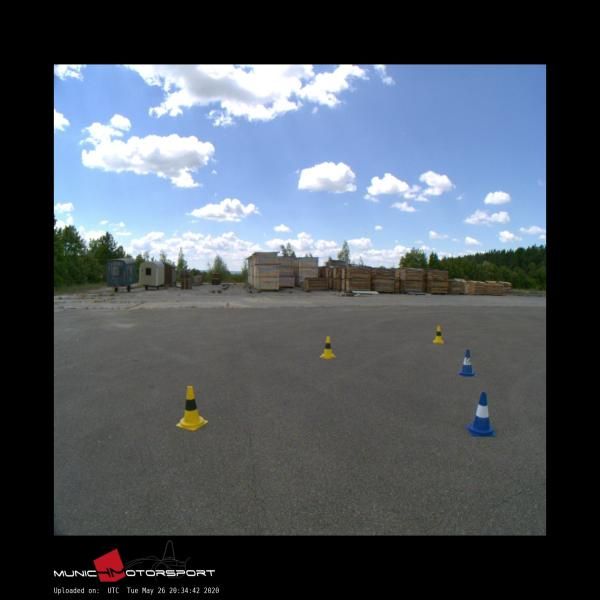blue_cone: (466, 392, 495, 436), (458, 349, 476, 375)
yellow_cone: (175, 384, 208, 428), (320, 335, 335, 359), (434, 326, 444, 342)
